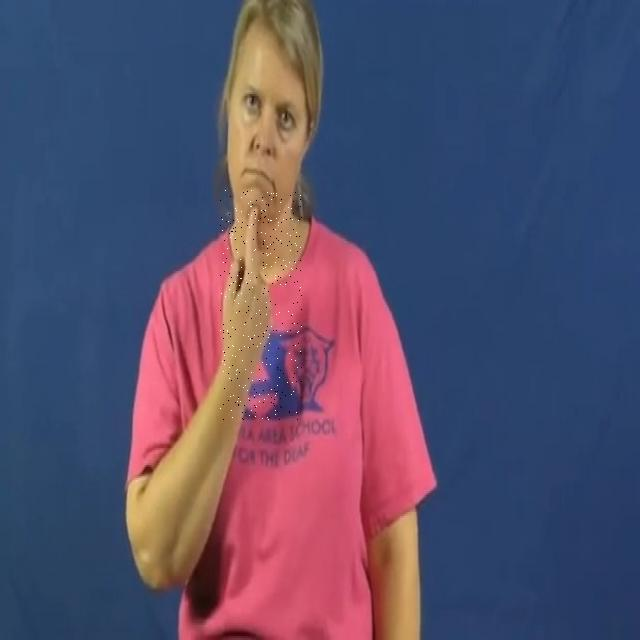sorry: (220, 190, 302, 420)
